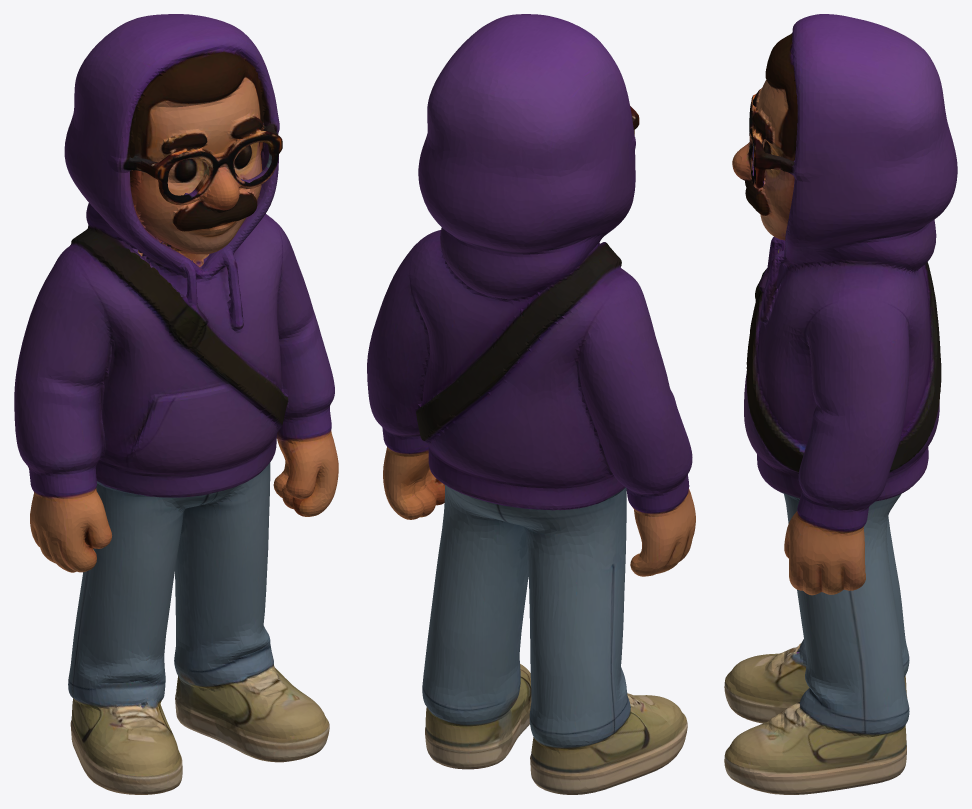
File: demo_textured (1).glb
3 renders of one model, left to right at view 1: azimuth 30°, elevation 25°; view 2: azimuth 150°, elevation 25°; view 3: azimuth 270°, elevation 25°, orthographic.
Visible parts, largest first — view 1: demo_textured.obj; view 2: demo_textured.obj; view 3: demo_textured.obj.
Boxes of the visible parts, x1,y1,x2,y2 form: demo_textured.obj: (14,14,338,794); demo_textured.obj: (367,14,695,794); demo_textured.obj: (724,14,957,794).
Size of the model in its own units: 0.878 by 1.99 by 0.5865.
1 material, 1 textured.
